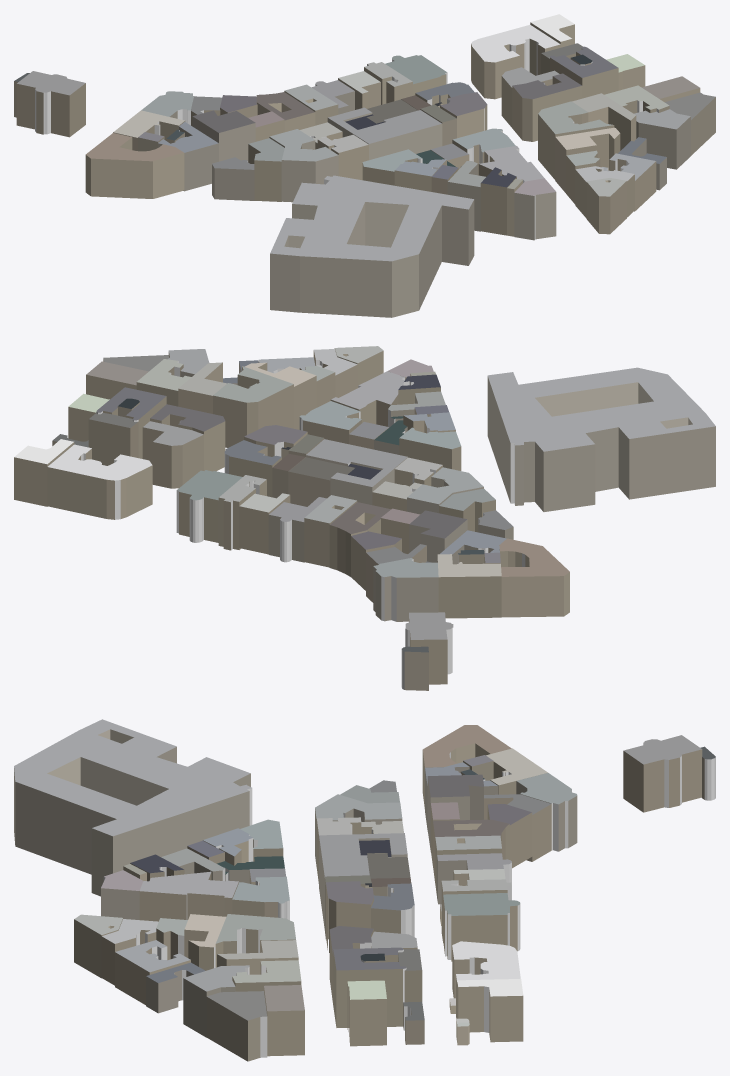
3 views of the same model, one above another, from view 1: azimuth 30°, elevation 25°; view 2: azimuth 150°, elevation 25°; view 3: azimuth 270°, elevation 25° (orthographic). The views are drawn at different scales.
Visible parts, largest first — view 1: tuile; view 2: tuile; view 3: tuile.
Boxes of the visible parts, x1,y1,x2,y2 form: tuile: [14, 14, 715, 317]; tuile: [14, 346, 715, 690]; tuile: [14, 719, 715, 1061].
Bounding box in the file's own units: 280 × 29.91 × 279.
